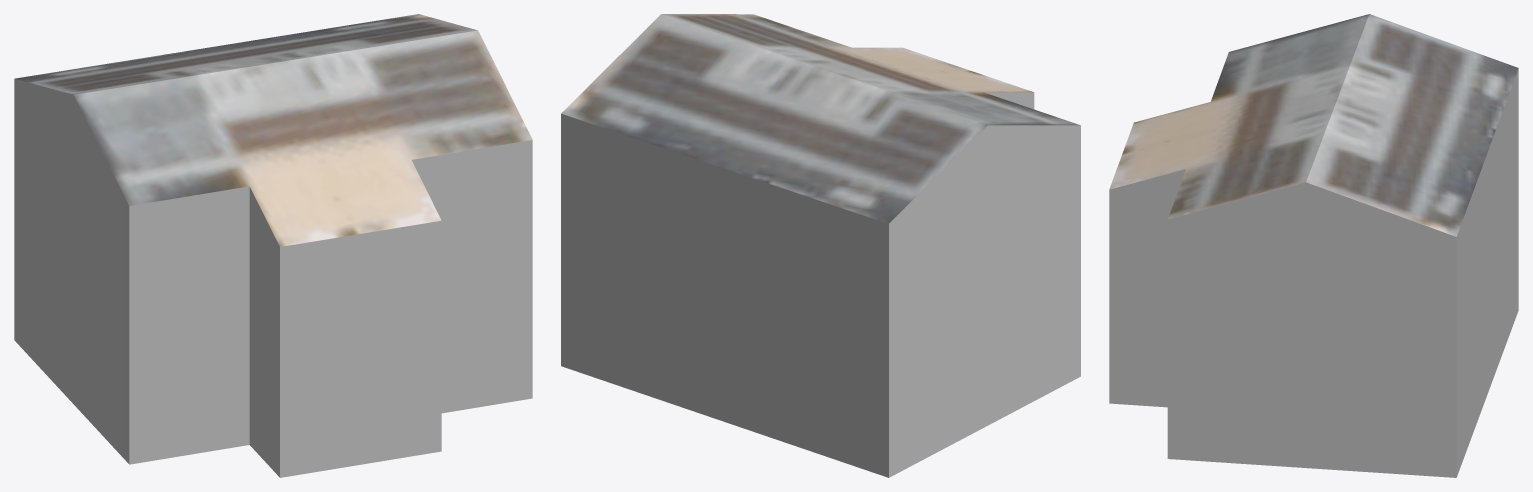
File: DEBW_0010007TxcY.gltf
3 views of the same model, side by side, from view 1: azimuth 30°, elevation 25°; view 2: azimuth 150°, elevation 25°; view 3: azimuth 270°, elevation 25° (orthographic). The views are drawn at different scales.
Parts seen in each view (by area): view 1: Z_UP; view 2: Z_UP; view 3: Z_UP.
Boxes of the visible parts, x1=… form: Z_UP: x1=14, y1=14, x2=532, y2=477; Z_UP: x1=561, y1=14, x2=1080, y2=477; Z_UP: x1=1109, y1=14, x2=1518, y2=477.
Size of the model in its own units: 17.18 by 12.32 by 15.95.
Materials: 2 (1 with a texture image).
